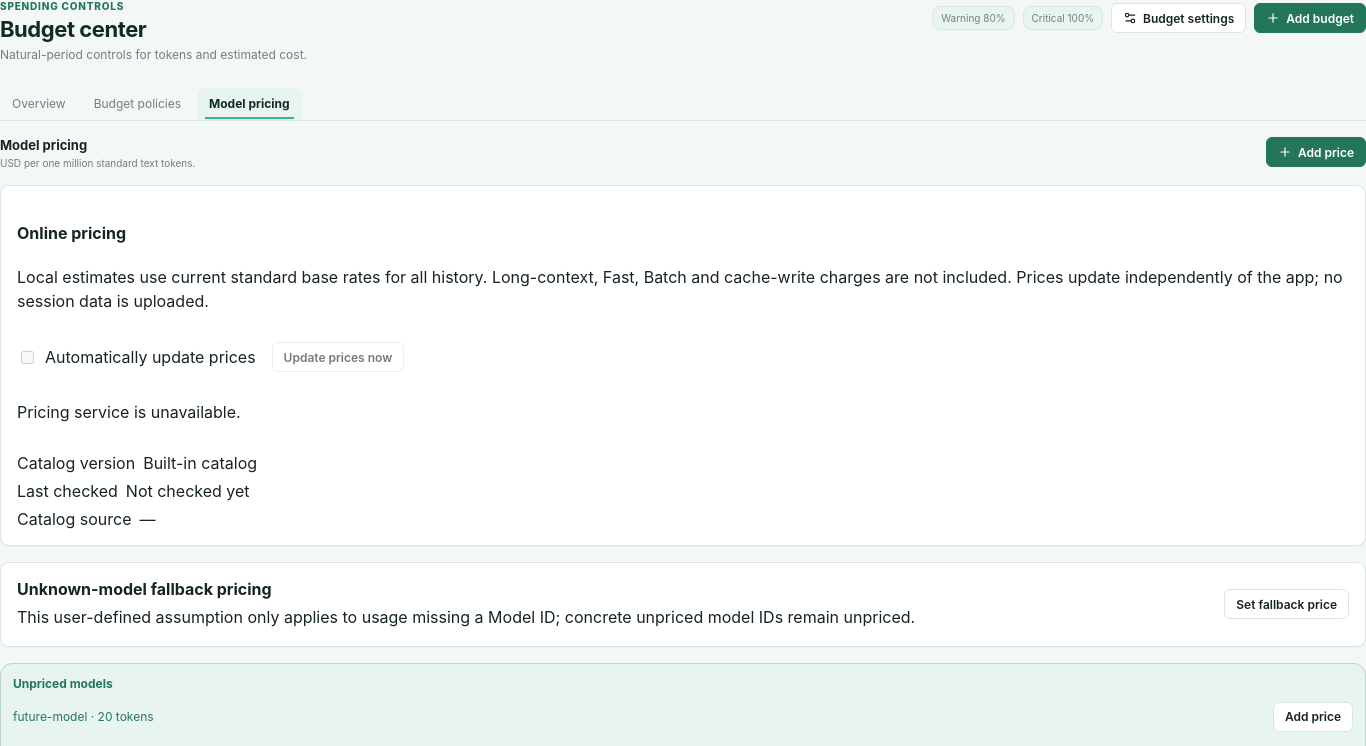
BudgetsView model options › opens budget settings from the pricing tab
Click the button "Budget settings": x=1179, y=18 [1111, 3, 1246, 33]
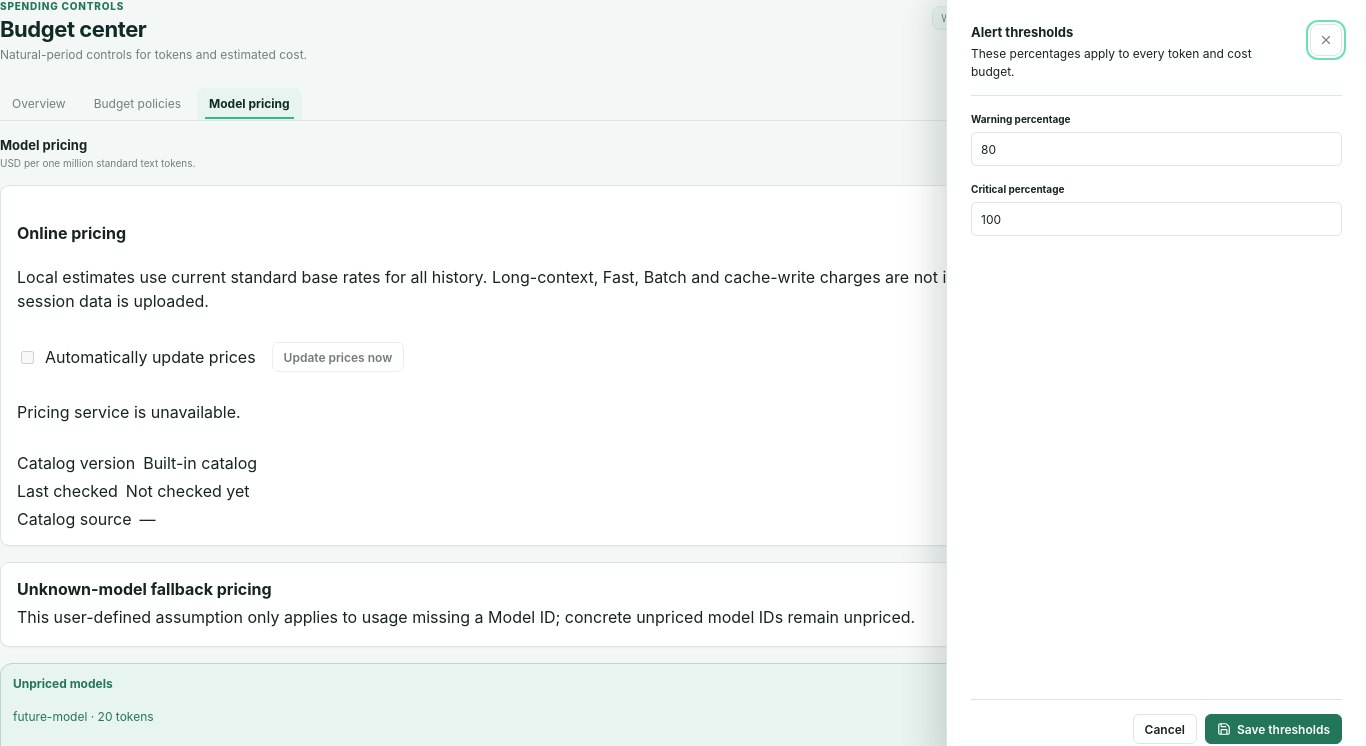
Check: the dialog shows "Alert thresholds", box [971, 24, 1073, 40]
